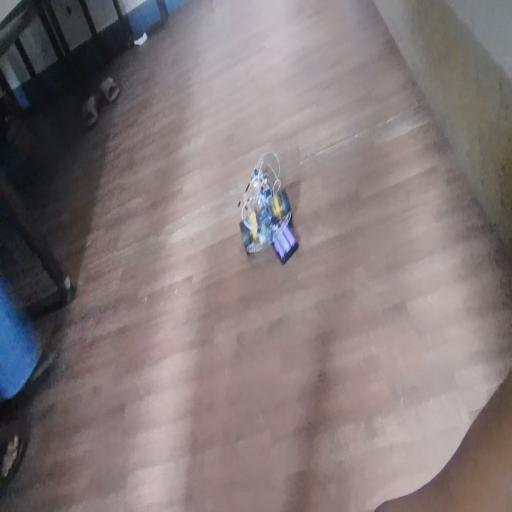car: (244, 167, 298, 264)
